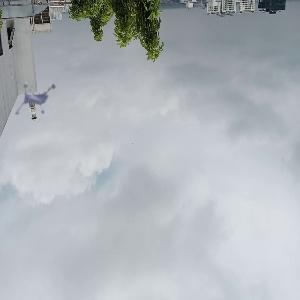drone: (13, 66, 68, 121)
